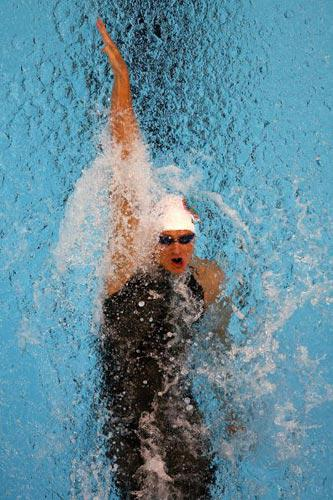human: (94, 14, 240, 498)
